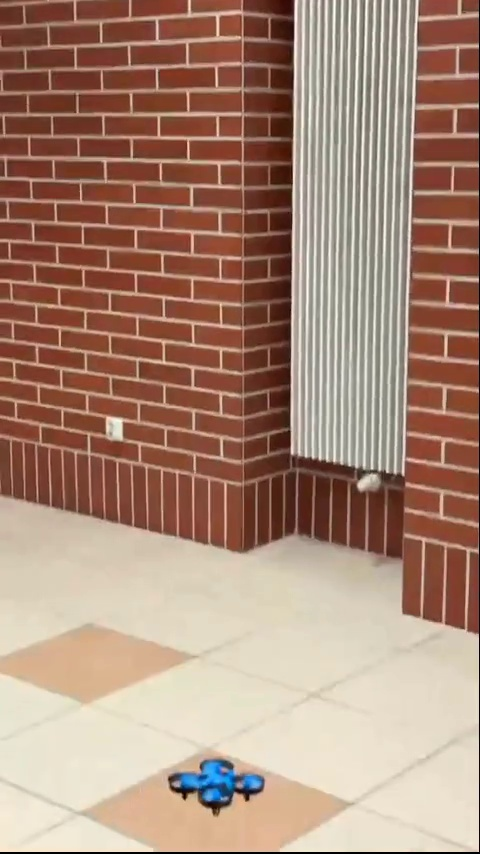drone: (167, 762, 268, 819)
